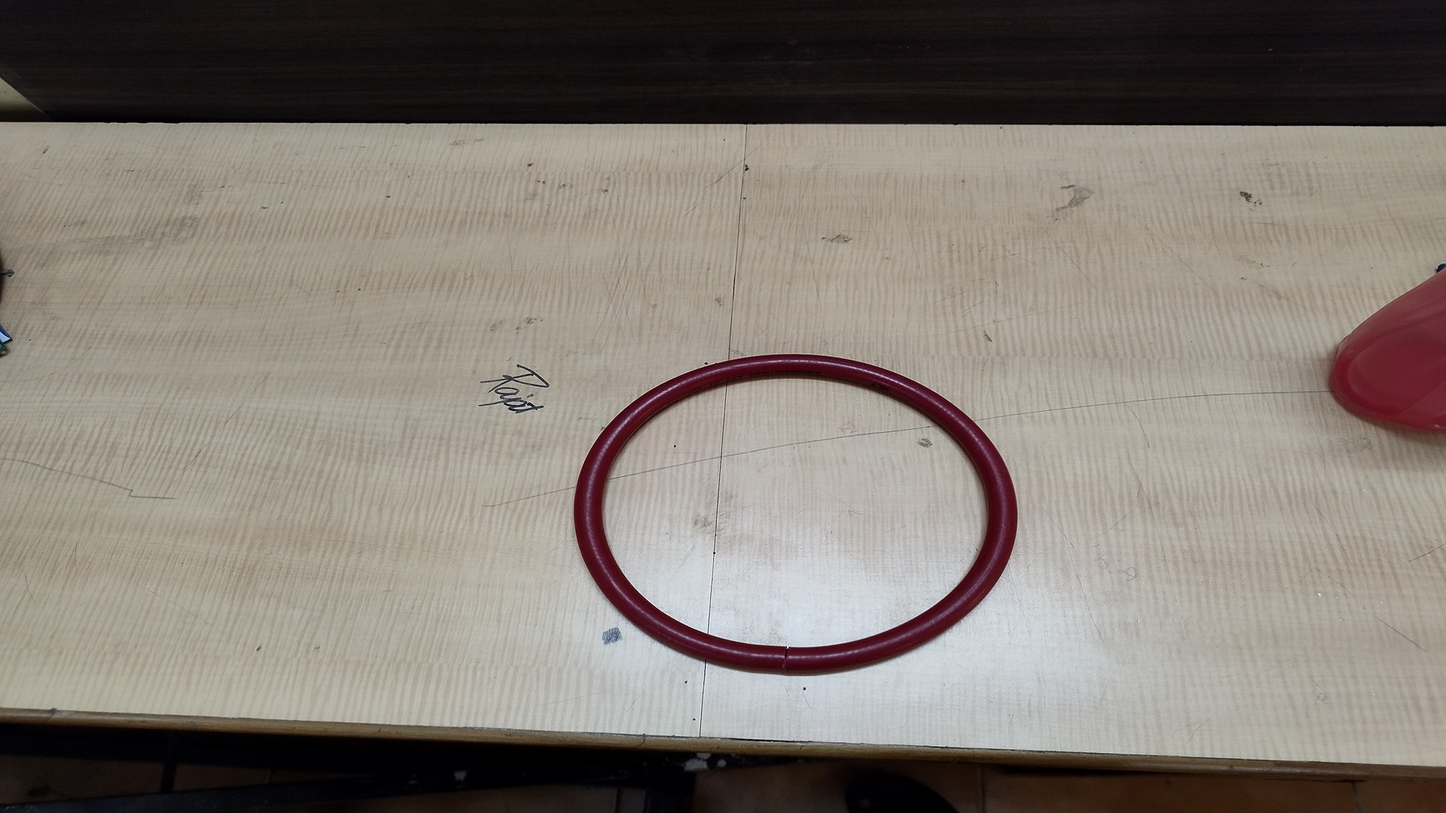Red ring: (575, 355, 1019, 670)
